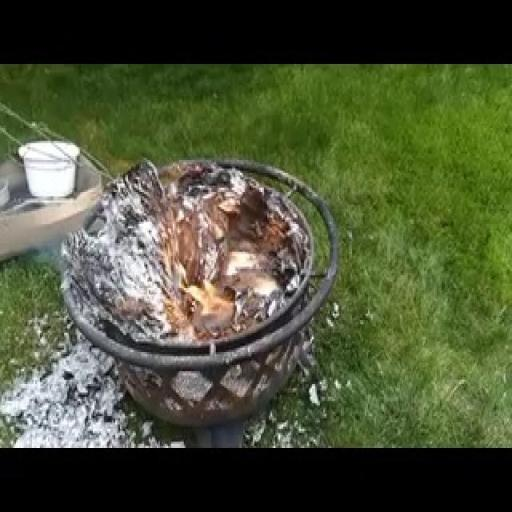smoke: (145, 234, 250, 355)
